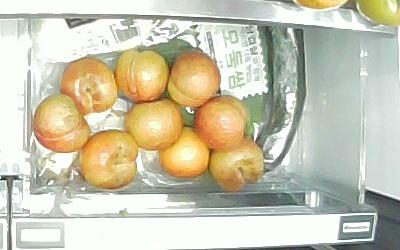prune: (81, 129, 137, 189), (32, 95, 90, 152), (60, 57, 117, 113), (195, 96, 250, 153), (210, 136, 265, 192), (169, 51, 221, 109), (126, 100, 184, 151), (115, 49, 168, 103), (157, 126, 209, 178)
